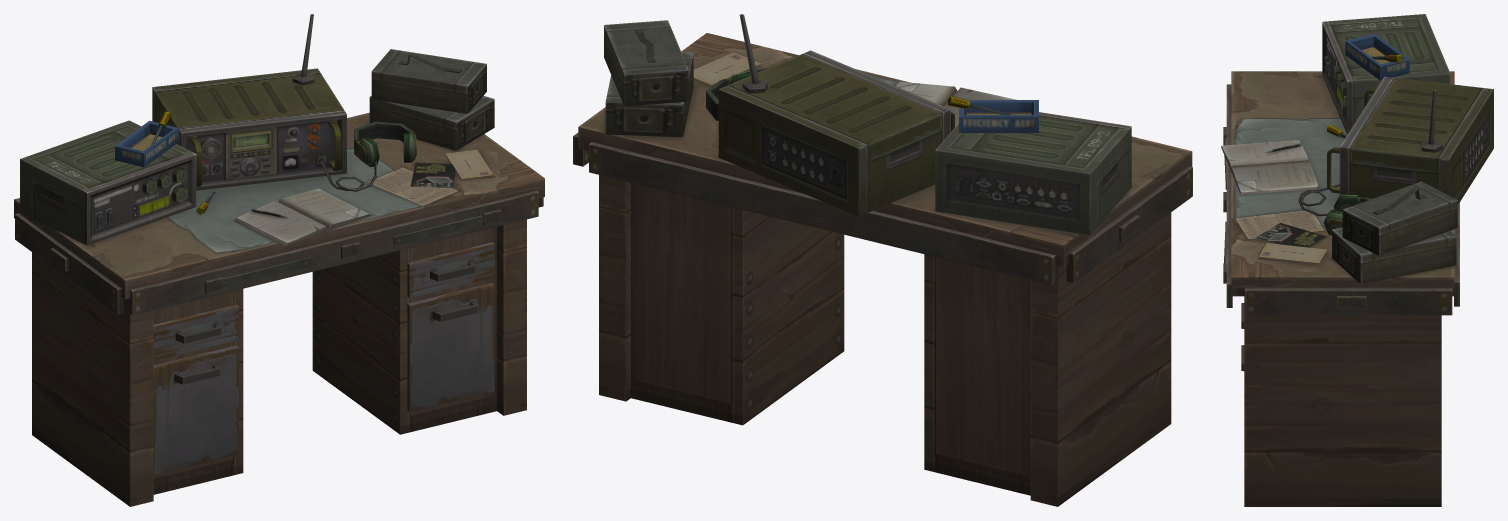
Rendered from Radio.FBX.
3 renders of one model, left to right at view 1: azimuth 30°, elevation 25°; view 2: azimuth 150°, elevation 25°; view 3: azimuth 270°, elevation 25°, orthographic. The views are drawn at different scales.
Parts seen in each view (by area): view 1: Radio_Transmitter; view 2: Radio_Transmitter; view 3: Radio_Transmitter.
Boxes of the visible parts, x1,y1,x2,y2 form: Radio_Transmitter: (14, 14, 544, 506); Radio_Transmitter: (573, 14, 1192, 506); Radio_Transmitter: (1221, 14, 1493, 506).
Size of the model in its own units: 1.79 by 1.37 by 0.9471.
1 material, 1 textured.
